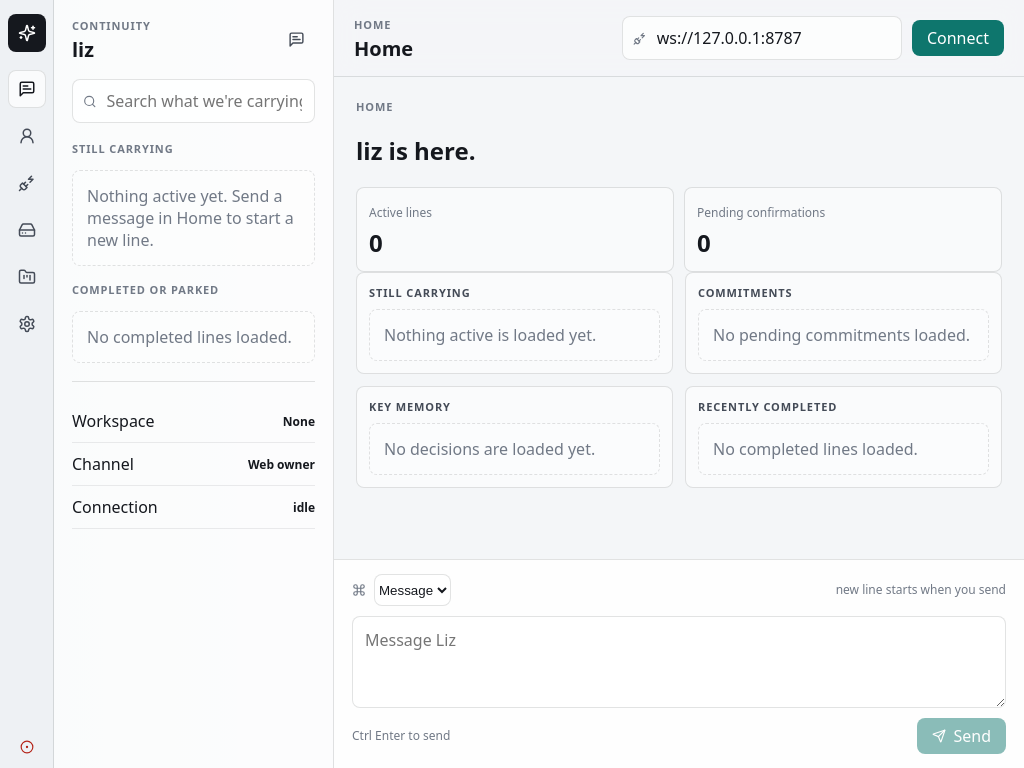
Test case: App product surface › reveals Diagnostics only after developer mode is enabled
Expected: the field labelled "Diagnostics" is not shown
Click the button named "Settings" at (26, 324), box top-left (8, 305), bottom-right (46, 343)
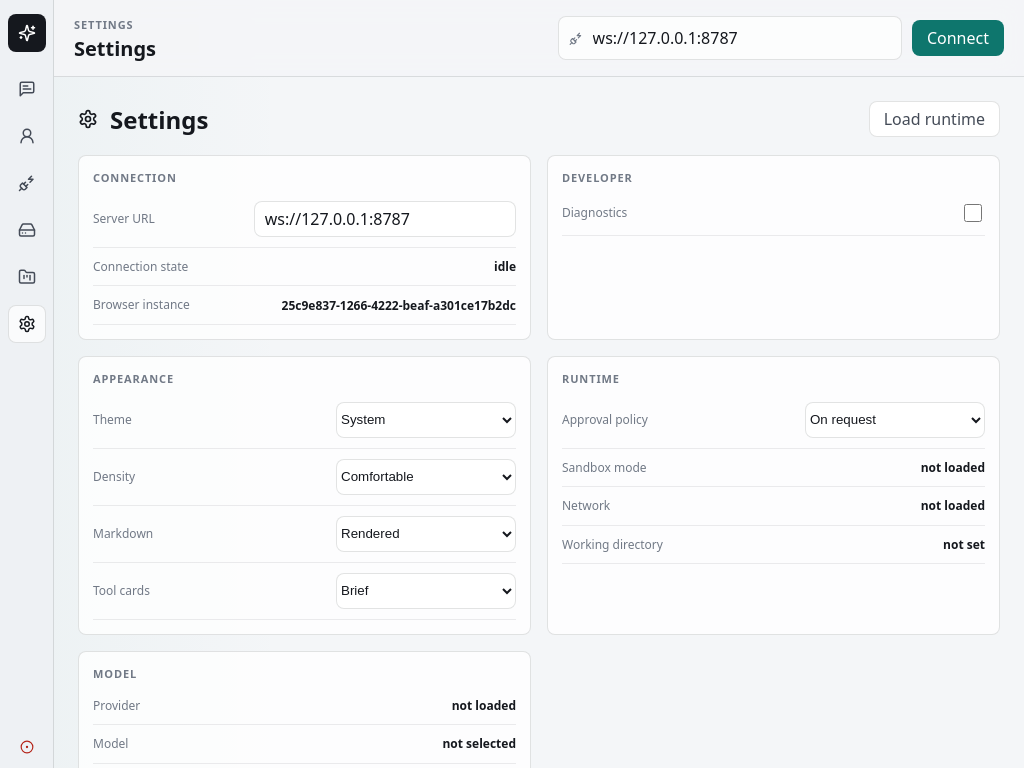
Click the checkbox named "Enable Diagnostics" at (973, 213), box top-left (964, 204), bottom-right (982, 222)
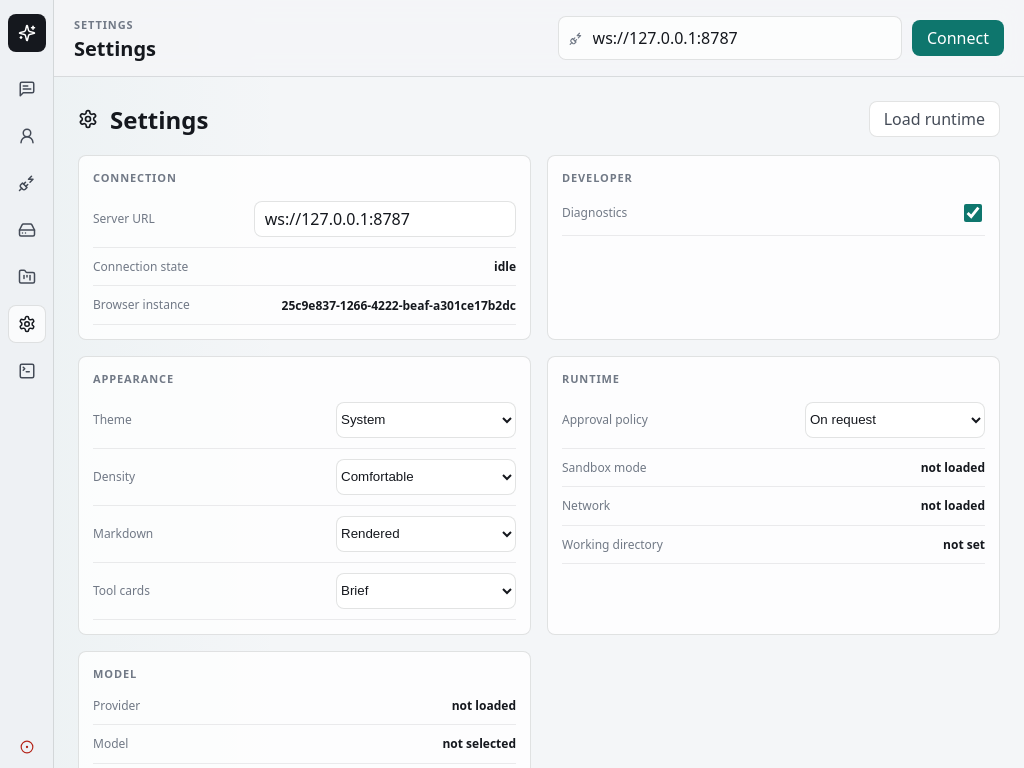
Now the button named "Diagnostics" is shown
Click the button named "Diagnostics" at (26, 371), box top-left (8, 352), bottom-right (46, 390)
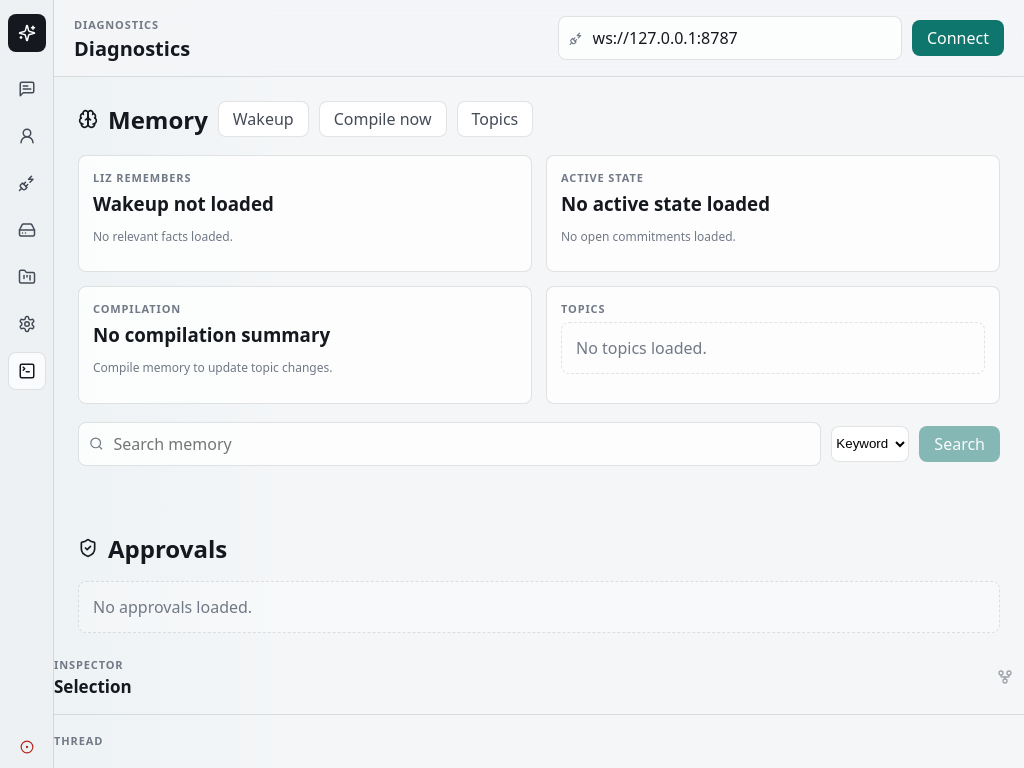
Now the heading "Memory" is shown, box top-left (108, 102), bottom-right (208, 136)
Now the heading "Approvals" is shown, box top-left (108, 532), bottom-right (227, 565)
